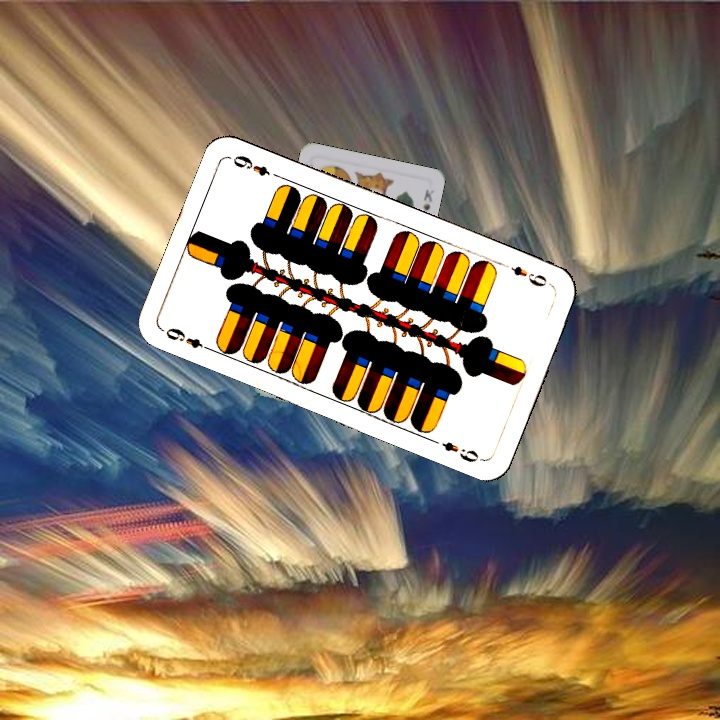E9: (159, 323, 216, 355), (506, 262, 555, 290)
